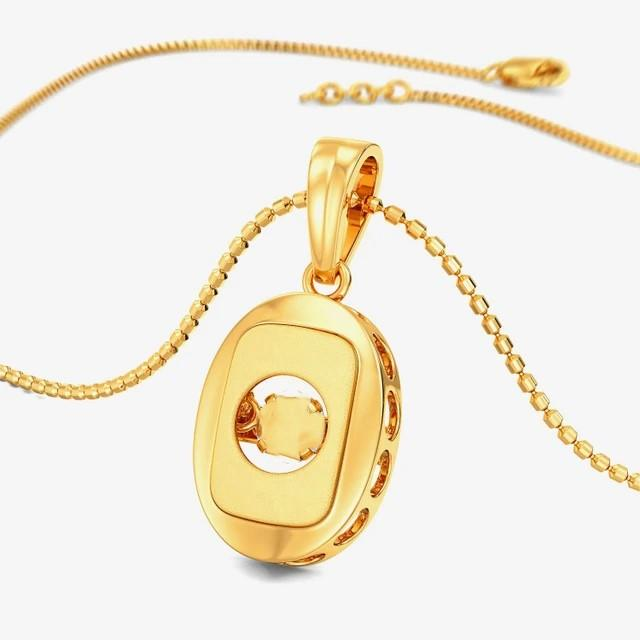missing gem: (256, 392, 324, 461)
